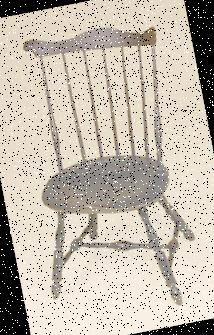Silla: (4, 17, 209, 331)
